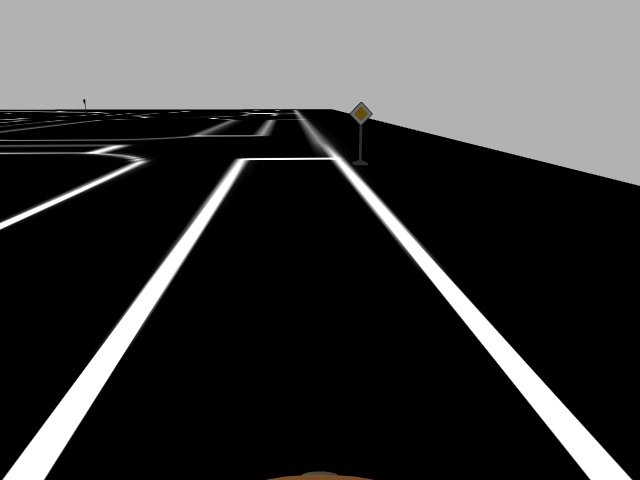priority: (348, 101, 375, 126)
